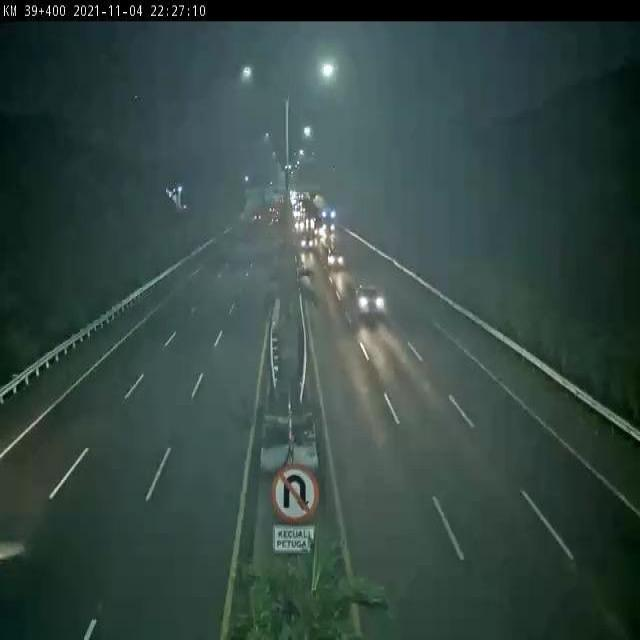car: (353, 283, 385, 320), (326, 252, 343, 272)
